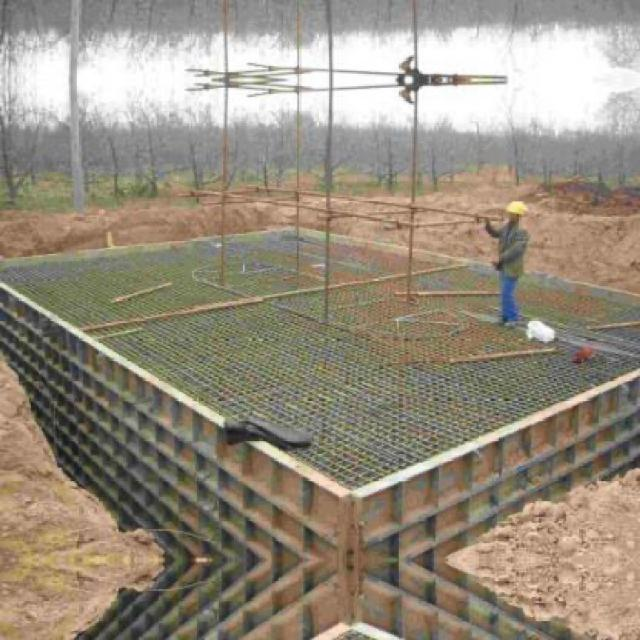helmet: (508, 196, 528, 227)
